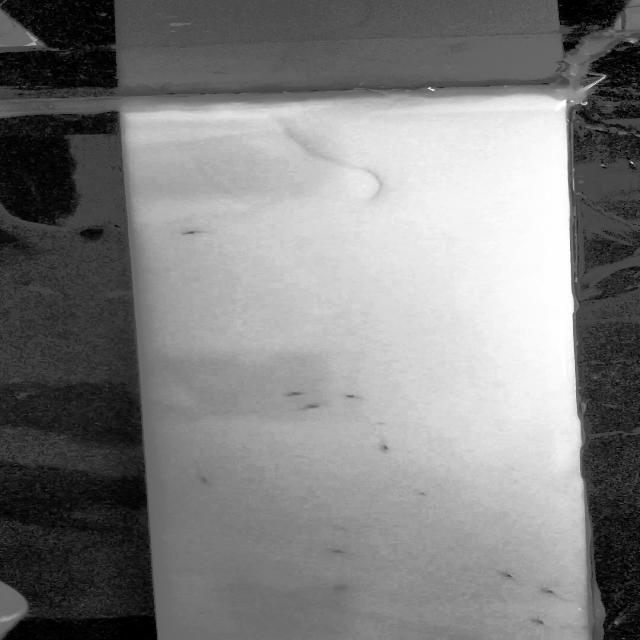shrimp: (366, 438, 401, 460), (275, 388, 314, 401), (187, 475, 222, 489), (322, 546, 357, 560), (175, 227, 209, 240), (298, 402, 333, 414), (527, 616, 557, 630), (335, 387, 361, 403), (534, 584, 563, 598), (498, 570, 518, 582)
